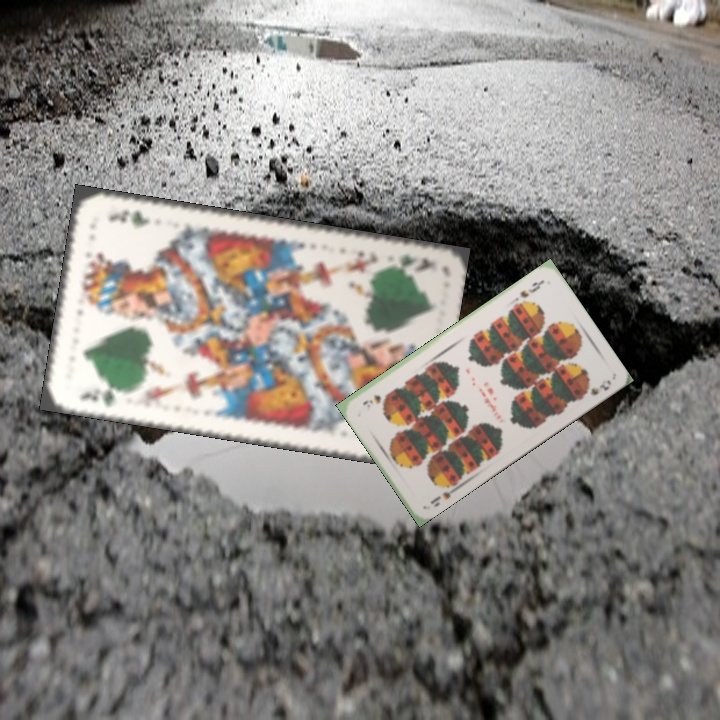GK: (74, 384, 127, 411), (381, 249, 436, 275)
S9: (426, 478, 460, 510), (516, 276, 547, 300)
